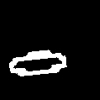chain: (9, 50, 66, 75)
